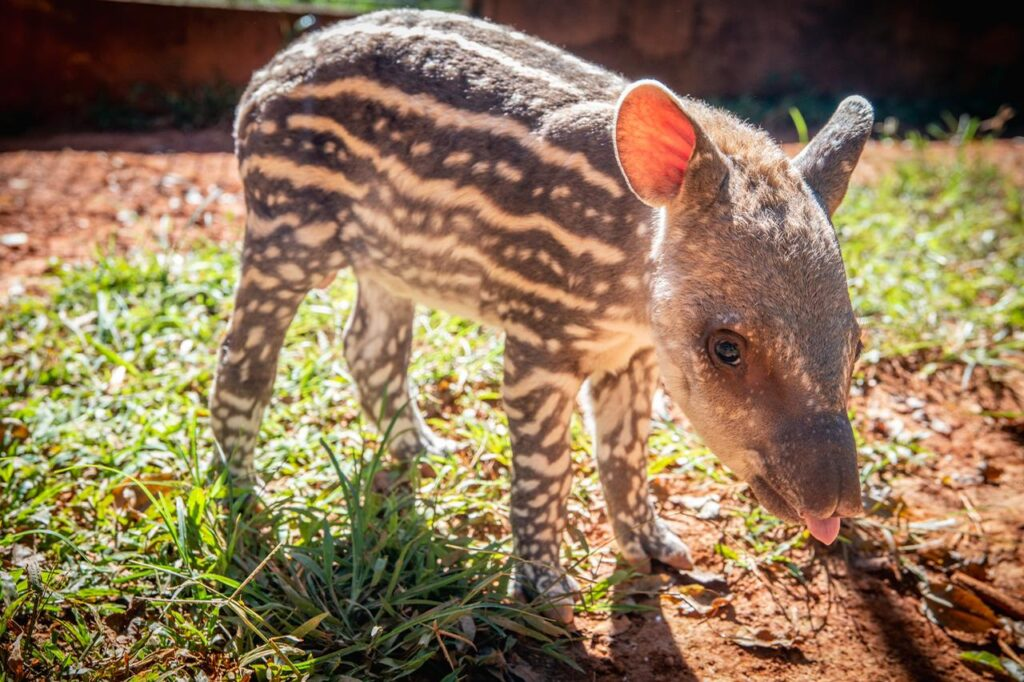Anta: (209, 1, 878, 587)
